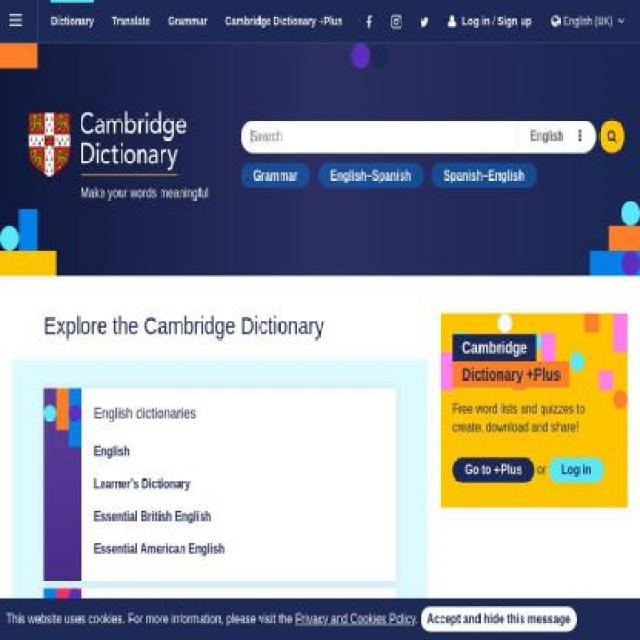button: (28, 110, 187, 178), (420, 607, 577, 631), (318, 162, 424, 187), (431, 162, 537, 187), (452, 458, 536, 482), (517, 124, 591, 148), (240, 162, 311, 187), (440, 6, 491, 36), (549, 458, 605, 482)
field: (241, 119, 596, 153)
